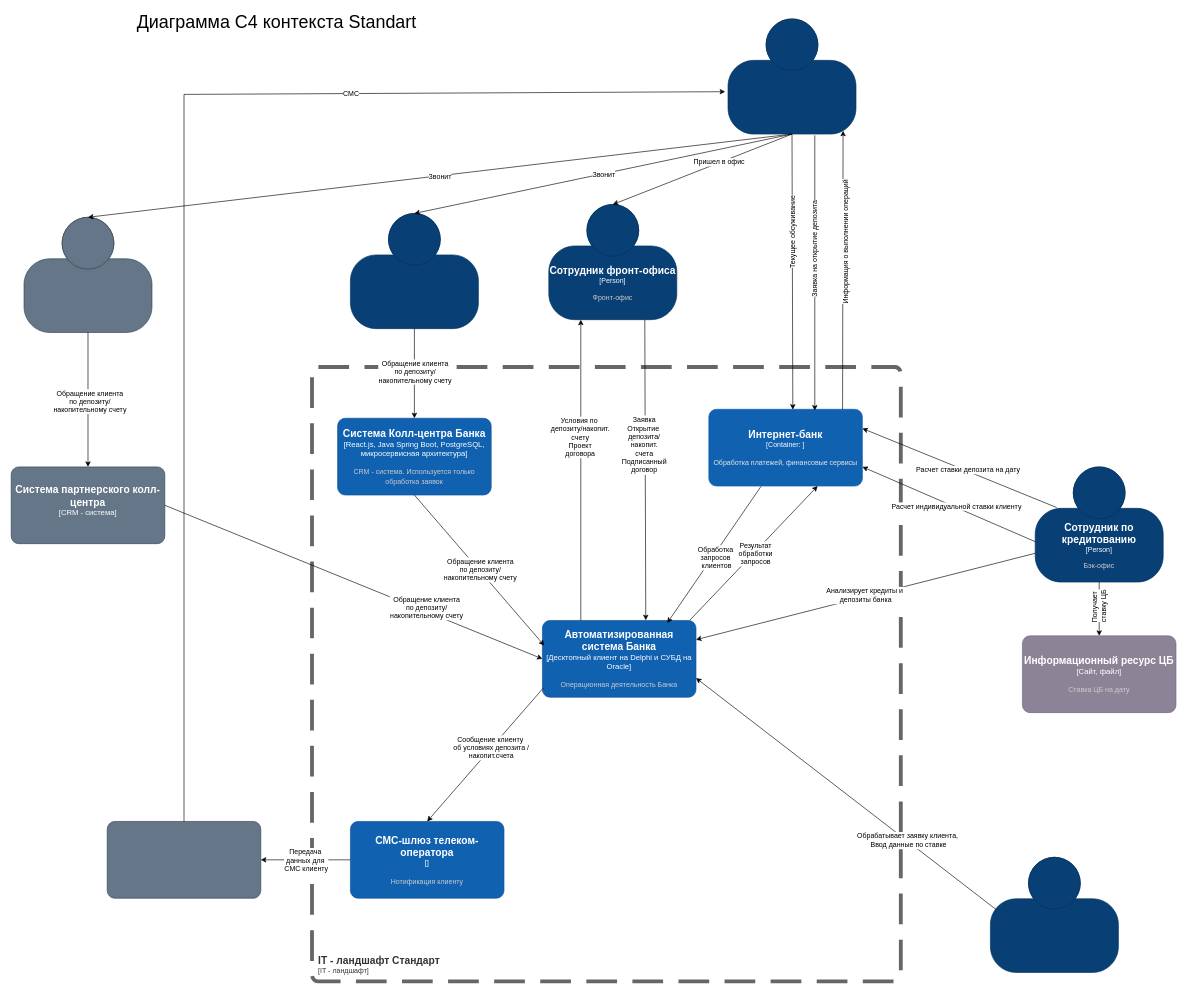
This 1187x994 diagram has some shape labels left out. The box of each missing label's shape, as (x1, y1, x2, y2) in pixels:
Клиент банка [Person]: (727, 18, 856, 134)
Система Телеком оператора [] Отправляет СМС клиенту: (107, 821, 261, 898)
Сотрудник Колл-центра Банка [Person] Колл-центр Банка: (350, 213, 478, 329)
Сотрудник Колл-центра партнерского [Person] Колл-центр партнерский: (23, 217, 152, 332)
Сотрудник по депозитам [Person] Бэк-офис: (990, 857, 1118, 972)
